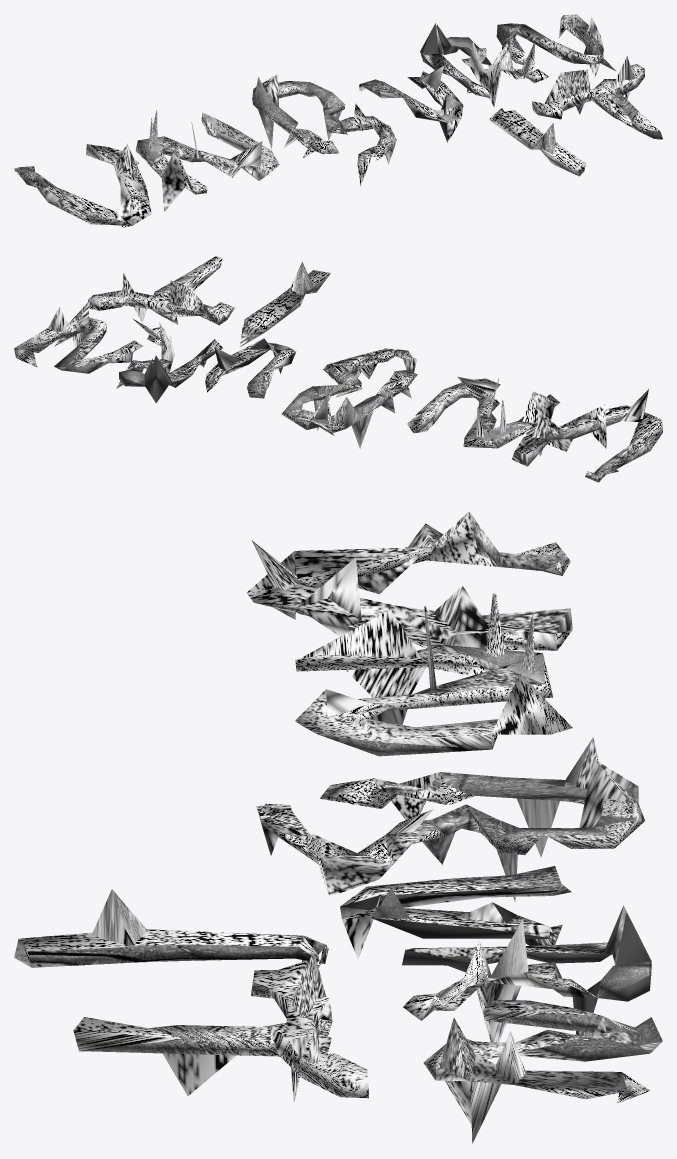
The model's file is 08_UNBURN_IT.glb.
3 views of the same model, one above another, from view 1: azimuth 30°, elevation 25°; view 2: azimuth 150°, elevation 25°; view 3: azimuth 270°, elevation 25° (orthographic). The views are drawn at different scales.
Parts seen in each view (by area): view 1: 08_UNBURN_IT; view 2: 08_UNBURN_IT; view 3: 08_UNBURN_IT.
Part boxes in pixels (x1,y1,x2,y2): 08_UNBURN_IT: (14, 14, 662, 227); 08_UNBURN_IT: (14, 256, 662, 482); 08_UNBURN_IT: (14, 511, 662, 1143).
Bounding box in the file's own units: 1.52 × 0.1918 × 0.7583.
1 material, 1 textured.
